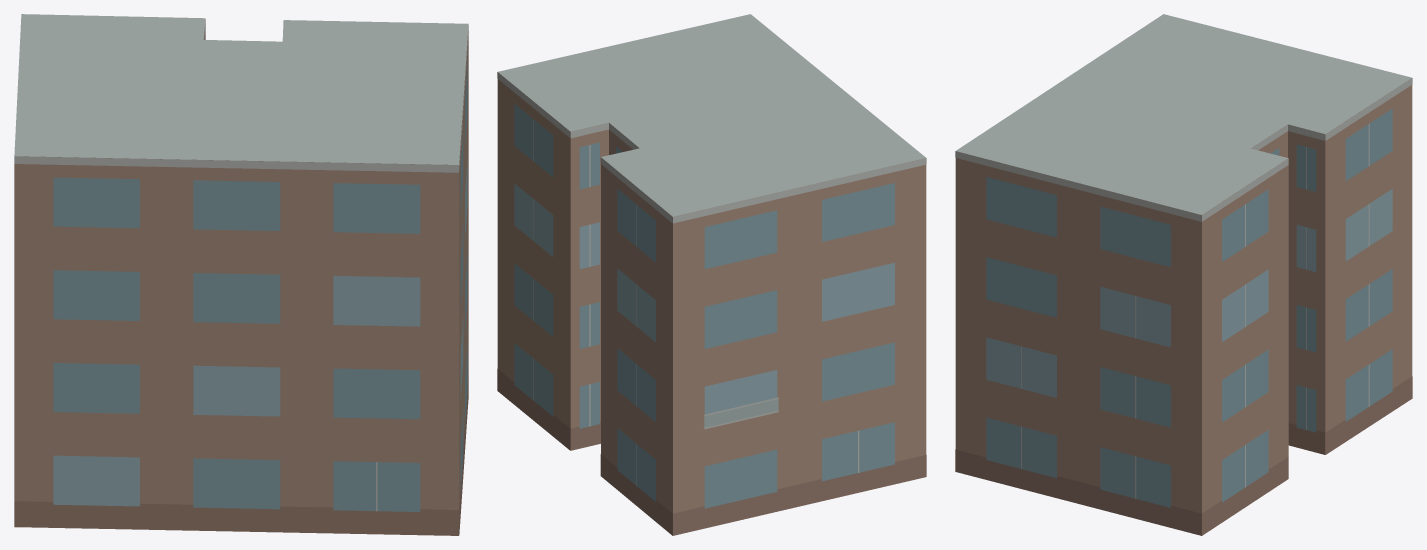
Rendered from survey-upis-32880183.glb.
3 renders of one model, left to right at view 1: azimuth 30°, elevation 25°; view 2: azimuth 150°, elevation 25°; view 3: azimuth 270°, elevation 25°, orthographic. The views are drawn at different scales.
Parts seen in each view (by area): view 1: survey-upis-32880183.tmp; view 2: survey-upis-32880183.tmp; view 3: survey-upis-32880183.tmp.
Boxes of the visible parts, x1,y1,x2,y2 form: survey-upis-32880183.tmp: (14,14,468,535); survey-upis-32880183.tmp: (497,14,926,535); survey-upis-32880183.tmp: (955,14,1412,535).
Bounding box in the file's own units: 15.6 × 11.6 × 14.98.
